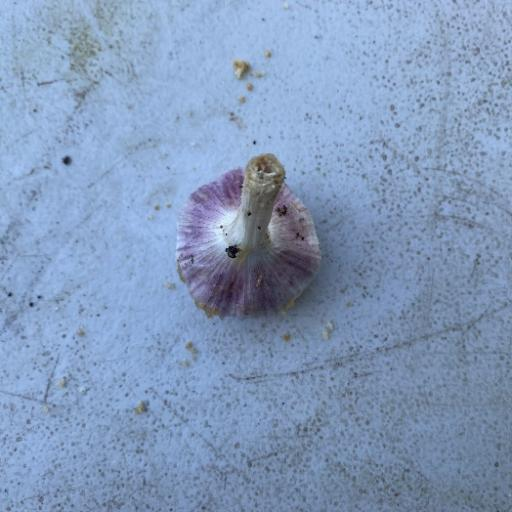Waste: (173, 152, 322, 320)
